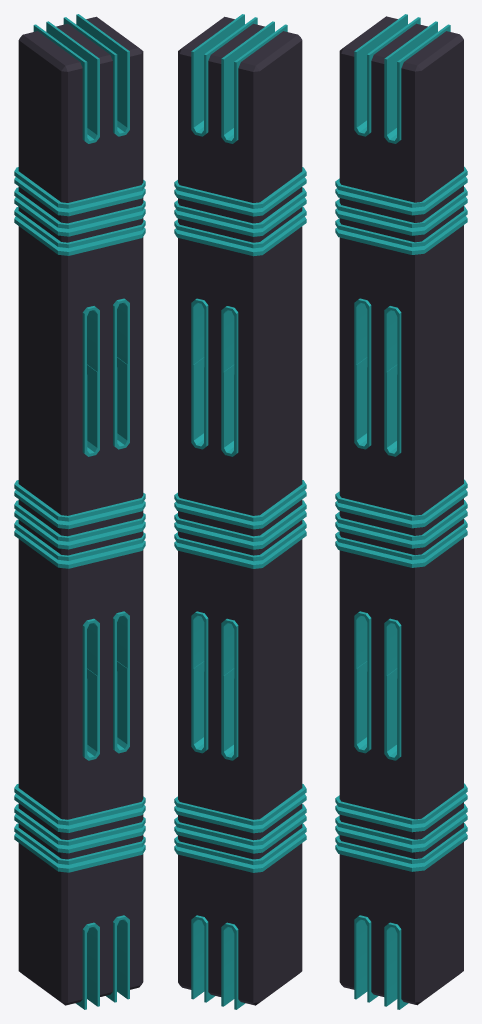
File: wall gen 7.fbx
3 views of the same model, side by side, from view 1: azimuth 30°, elevation 25°; view 2: azimuth 150°, elevation 25°; view 3: azimuth 330°, elevation 25° (orthographic).
Parts seen in each view (by area): view 1: polySurface1480; view 2: polySurface1480; view 3: polySurface1480.
Boxes of the visible parts, left/top/right/bottom form: polySurface1480: left=14, top=14, right=145, bottom=1009; polySurface1480: left=174, top=14, right=306, bottom=1009; polySurface1480: left=335, top=14, right=467, bottom=1009.
Size of the model in its own units: 29.86 by 306 by 29.91.
